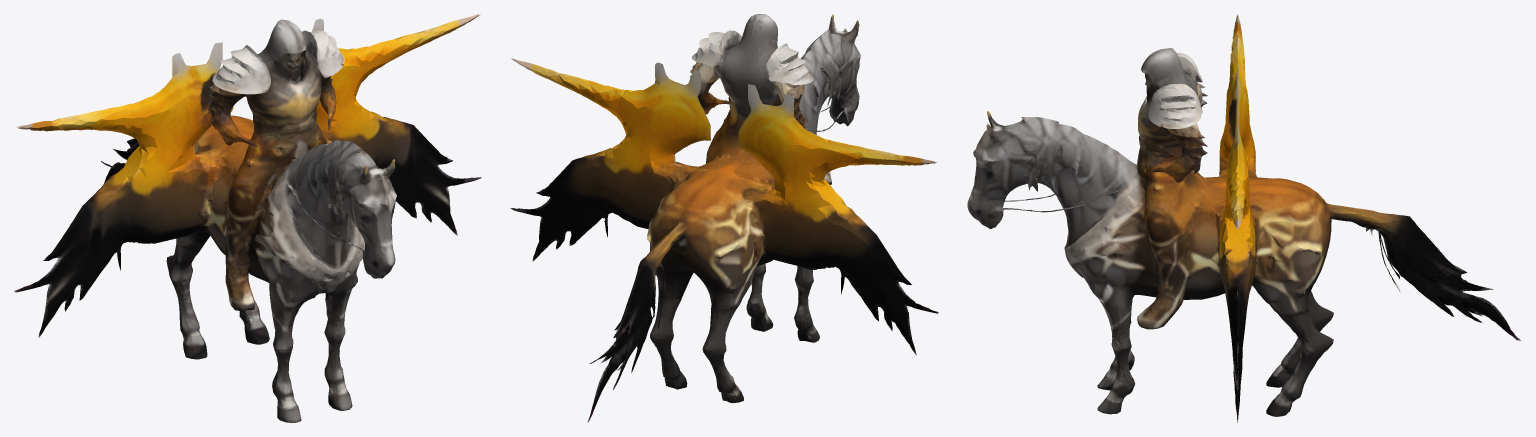
Rendered from undead_cavalry.glb.
3 views of the same model, side by side, from view 1: azimuth 30°, elevation 25°; view 2: azimuth 150°, elevation 25°; view 3: azimuth 270°, elevation 25° (orthographic). The views are drawn at different scales.
Parts seen in each view (by area): view 1: undead_cavalry; view 2: undead_cavalry; view 3: undead_cavalry.
Part boxes in pixels (x1,y1,x2,y2): undead_cavalry: [14, 14, 481, 422]; undead_cavalry: [510, 14, 938, 422]; undead_cavalry: [967, 14, 1520, 422].
Bounding box in the file's own units: 1.71 × 1.29 × 1.85.
Materials: 1 (1 with a texture image).
